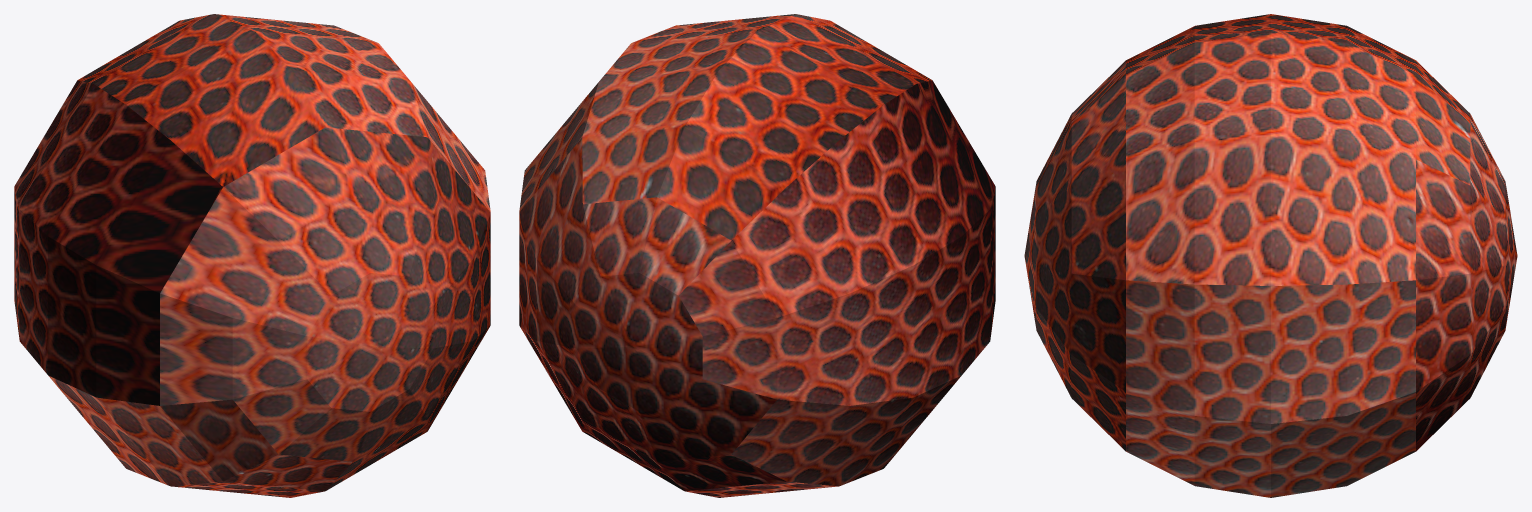
The model's file is ball1.dae.
The picture shows the model from 3 angles, left to right: view 1: azimuth 30°, elevation 25°; view 2: azimuth 150°, elevation 25°; view 3: azimuth 270°, elevation 25°; orthographic projection.
Visible parts, largest first — view 1: Ball1; view 2: Ball1; view 3: Ball1.
Part boxes in pixels (x1,y1,x2,y2): Ball1: (14,14,490,497); Ball1: (519,14,995,497); Ball1: (1024,14,1517,497).
Size of what is drawn, in the model's own units: 19.02 by 20 by 20.
